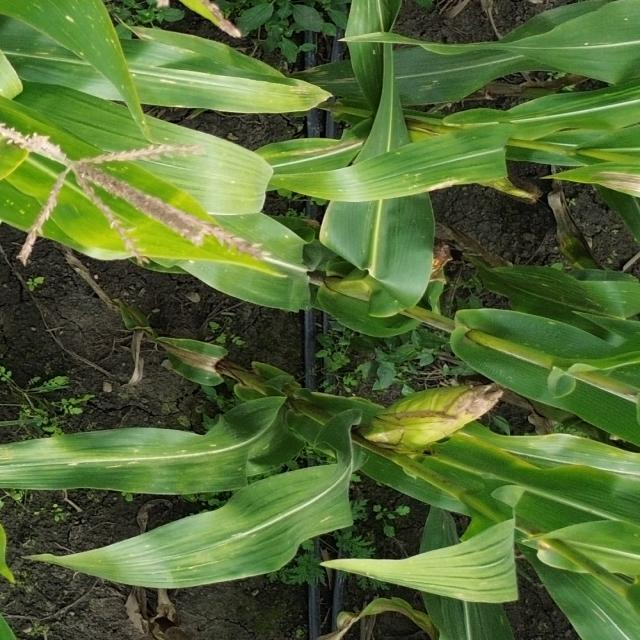gray-leaf-spot: (300, 65, 394, 95)
northern-leaf-blight: (166, 339, 233, 380), (580, 162, 640, 194)
southern-leaf-blight: (102, 438, 224, 489), (512, 432, 640, 472), (124, 56, 208, 102), (58, 1, 123, 60), (197, 156, 260, 209), (547, 276, 638, 312), (518, 331, 599, 365), (376, 165, 450, 193), (0, 190, 47, 232), (393, 203, 438, 243)
